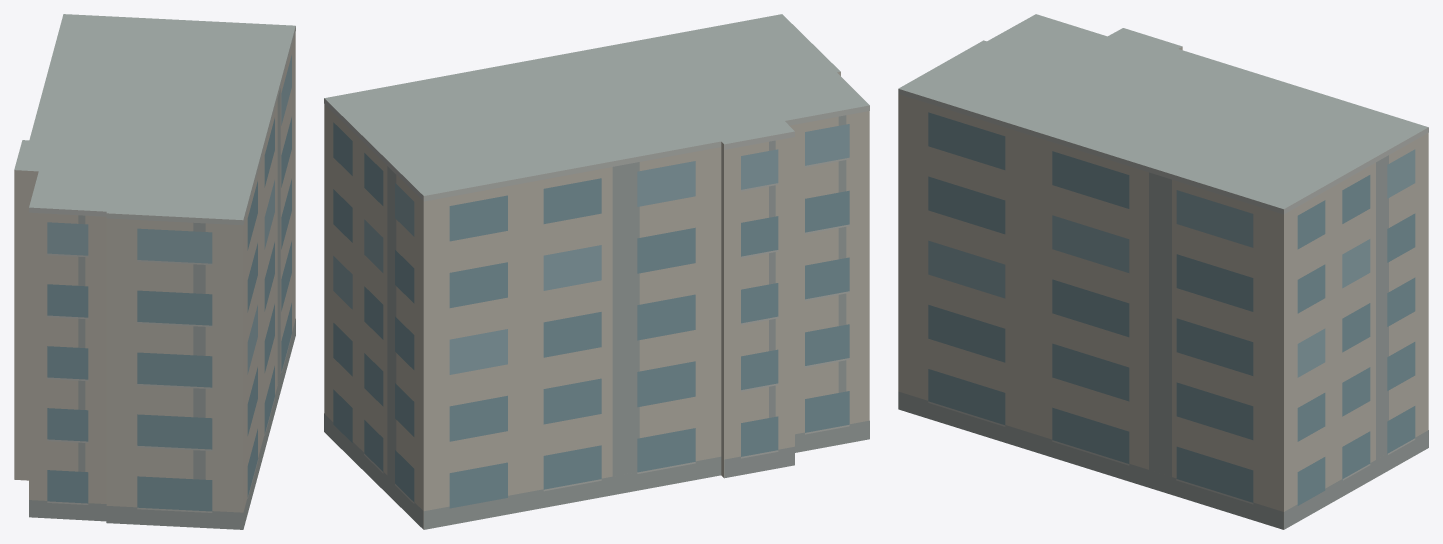
File: survey-upis-32578556.glb
3 renders of one model, left to right at view 1: azimuth 30°, elevation 25°; view 2: azimuth 150°, elevation 25°; view 3: azimuth 270°, elevation 25°, orthographic. The views are drawn at different scales.
Visible parts, largest first — view 1: survey-upis-32578556.tmp; view 2: survey-upis-32578556.tmp; view 3: survey-upis-32578556.tmp.
Boxes of the visible parts, x1,y1,x2,y2 form: survey-upis-32578556.tmp: [14, 14, 295, 529]; survey-upis-32578556.tmp: [324, 14, 869, 529]; survey-upis-32578556.tmp: [898, 14, 1428, 529].
Size of the model in its own units: 19.34 by 14.8 by 22.2.
